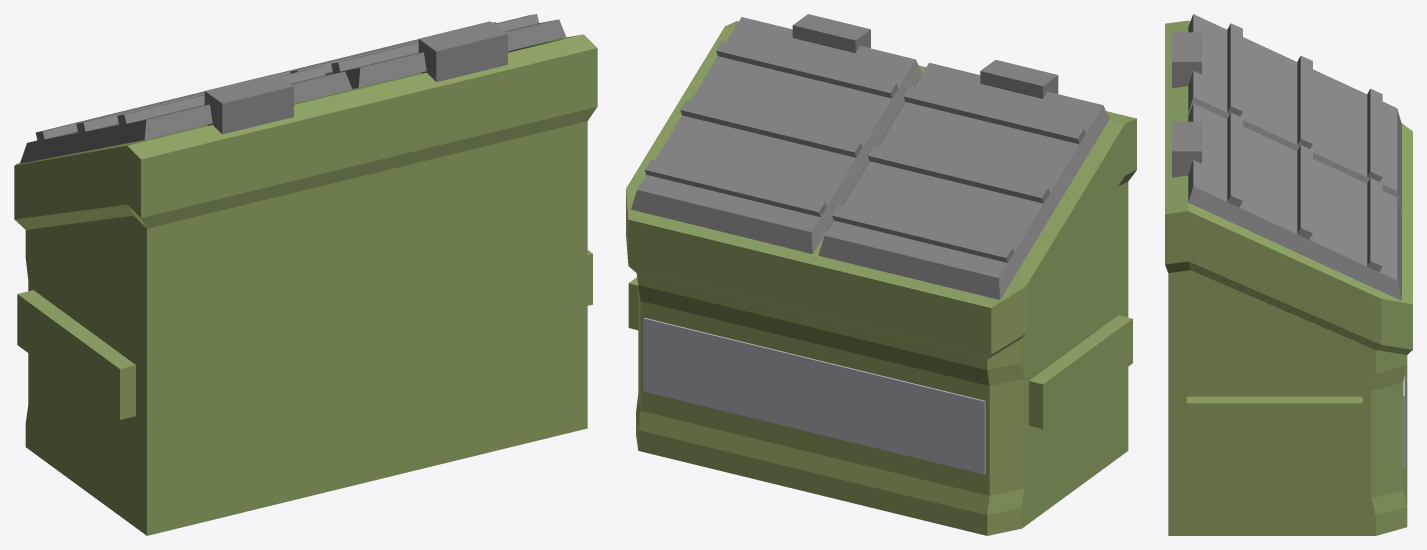
Rendered from recycle_bin.glb.
3 views of the same model, side by side, from view 1: azimuth 30°, elevation 25°; view 2: azimuth 150°, elevation 25°; view 3: azimuth 270°, elevation 25° (orthographic). The views are drawn at different scales.
Visible parts, largest first — view 1: TrashContainer; view 2: TrashContainer; view 3: TrashContainer.
Part boxes in pixels (left/top/right/bottom): TrashContainer: left=14, top=14, right=597, bottom=535; TrashContainer: left=626, top=14, right=1136, bottom=535; TrashContainer: left=1165, top=14, right=1412, bottom=535.
Bounding box in the file's own units: 2.44 × 2.03 × 1.3.
